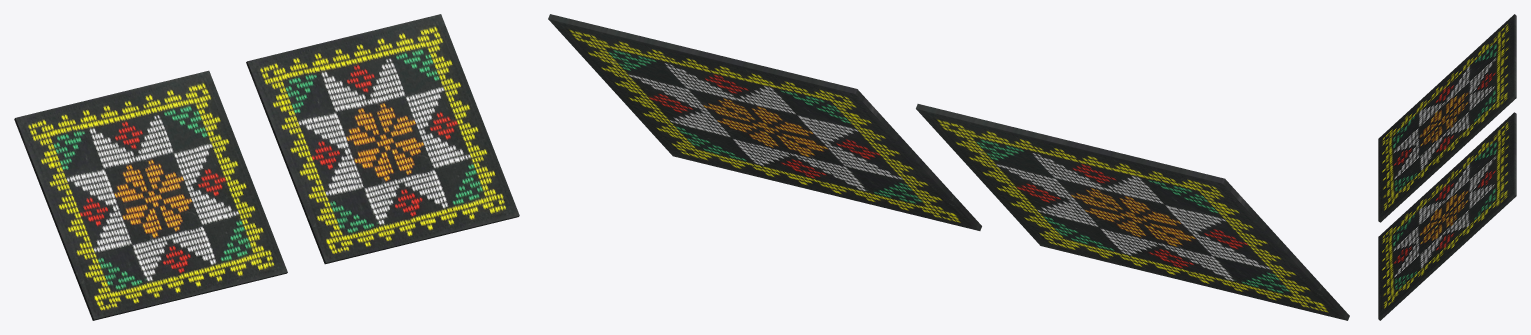
The model's file is small_dastar_weaving.glb.
3 views of the same model, side by side, from view 1: azimuth 30°, elevation 25°; view 2: azimuth 150°, elevation 25°; view 3: azimuth 270°, elevation 25° (orthographic). The views are drawn at different scales.
Visible parts, largest first — view 1: pPlane2, pPlane3; view 2: pPlane2, pPlane3; view 3: pPlane2, pPlane3.
Part boxes in pixels (x1,y1,x2,y2): pPlane2: (14,70,287,320); pPlane3: (246,14,519,264); pPlane2: (916,104,1349,320); pPlane3: (548,14,981,230); pPlane2: (1378,14,1516,222); pPlane3: (1378,112,1516,320).
Size of the model in its own units: 347 by 114 by 113.
Materials: 1 (1 with a texture image).
